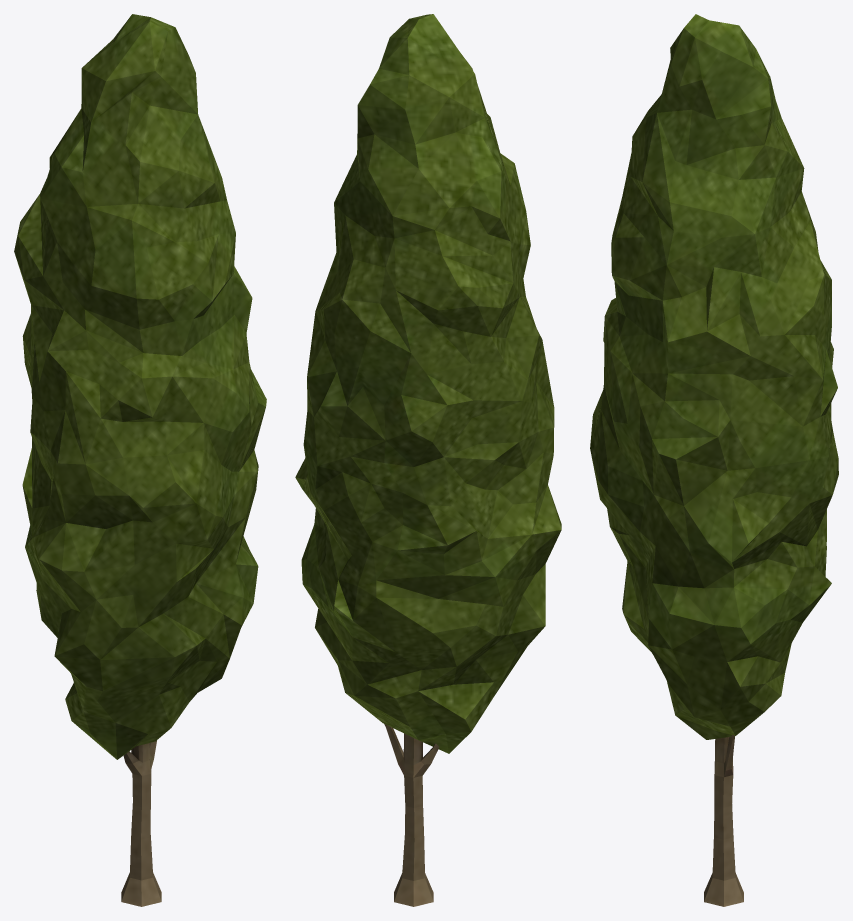
The model's file is poplar.glb.
3 views of the same model, side by side, from view 1: azimuth 30°, elevation 25°; view 2: azimuth 150°, elevation 25°; view 3: azimuth 270°, elevation 25° (orthographic).
Visible parts, largest first — view 1: PoplarTree_Mesh; view 2: PoplarTree_Mesh; view 3: PoplarTree_Mesh.
Part boxes in pixels (left/top/right/bottom): PoplarTree_Mesh: left=14, top=14, right=266, bottom=906; PoplarTree_Mesh: left=295, top=14, right=561, bottom=906; PoplarTree_Mesh: left=590, top=14, right=838, bottom=906.
Size of the model in its own units: 3.56 by 12.79 by 3.28.
Materials: 1 (1 with a texture image).
